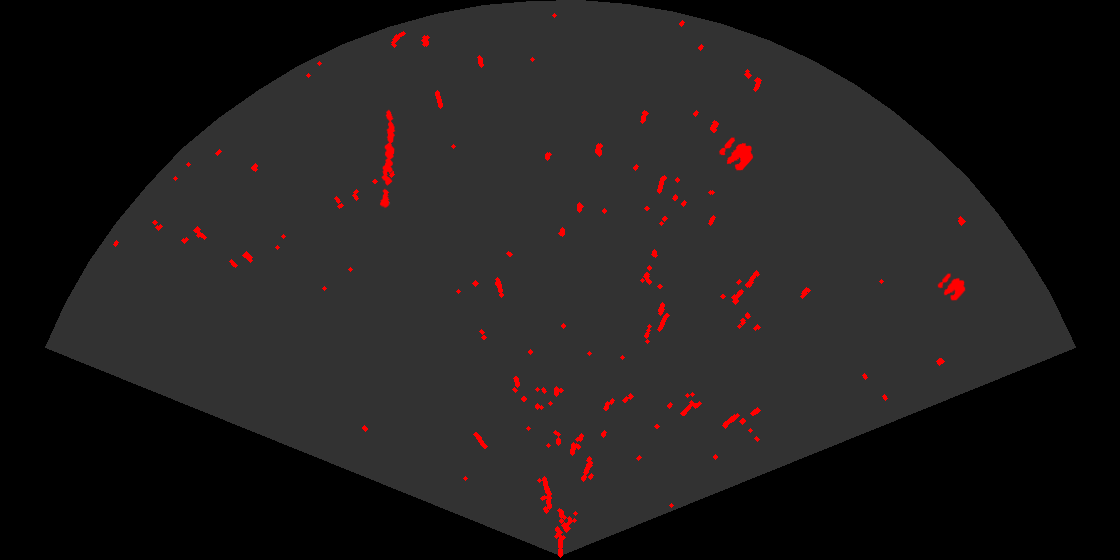ball: (718, 136, 755, 172), (936, 272, 967, 302)
chain: (378, 108, 397, 210)
